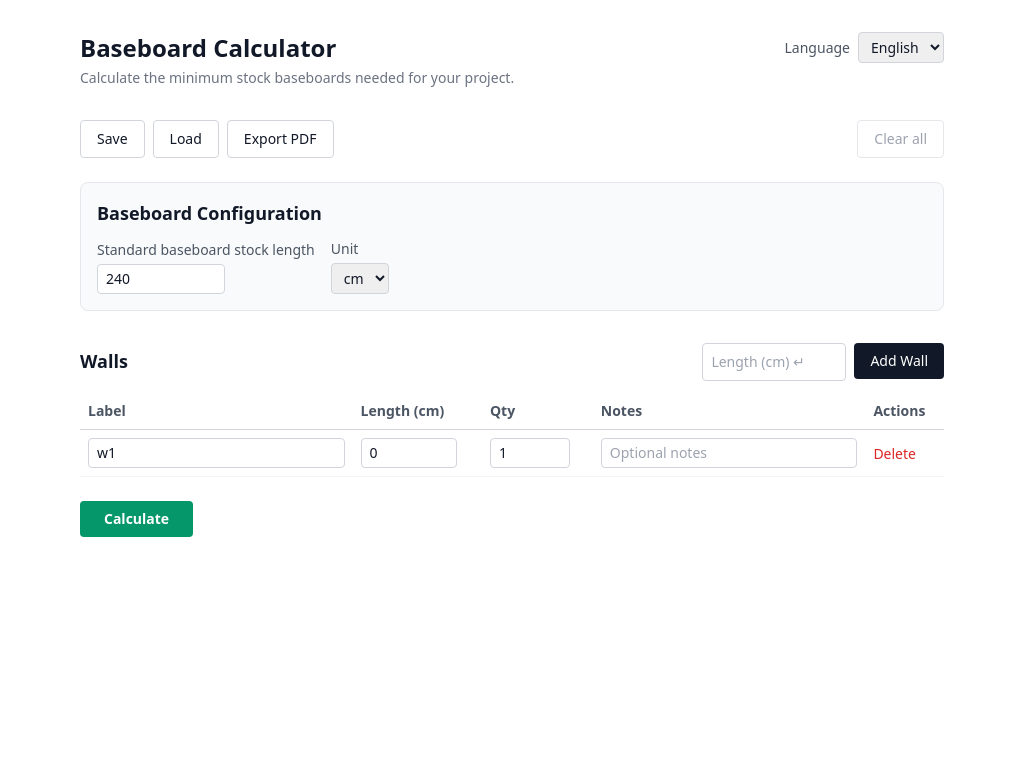
Test: App › gives the same piece count after switching units
This screenshot has width=1024, height=768.
Replace the text in the number field named "Length" with "125" at (409, 453), box [361, 438, 457, 468]
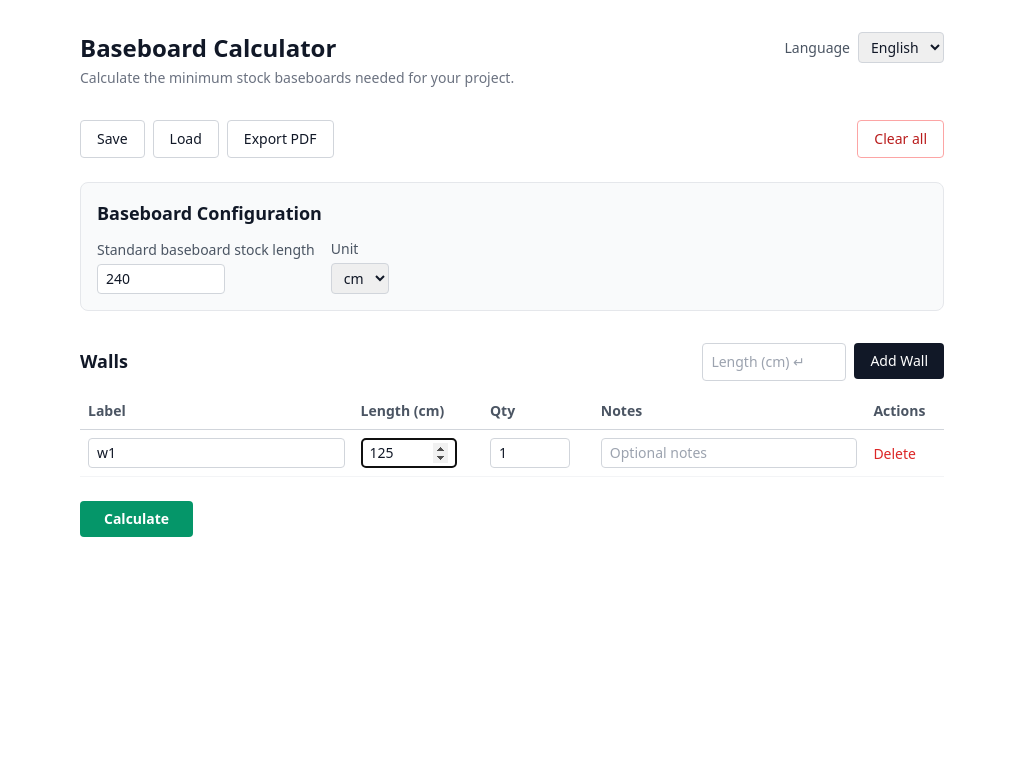
Select "m" in the dropdown labelled "Unit" at (360, 278), box [331, 263, 389, 294]
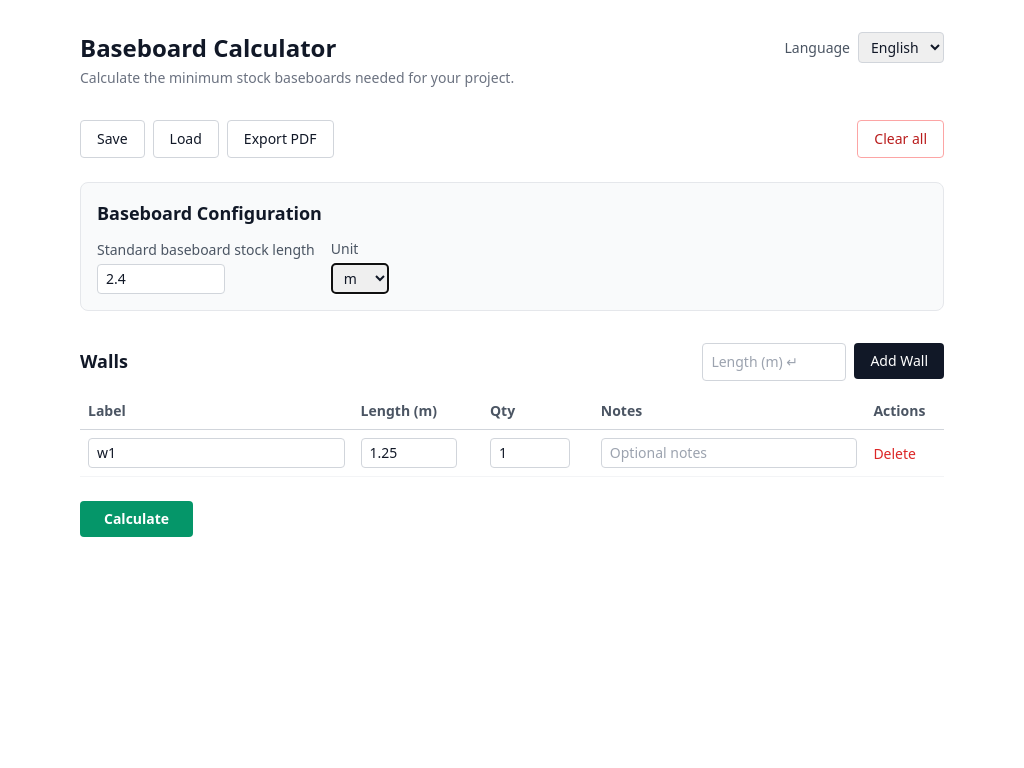
Click the button with test id "calculate-button" at (137, 519), box [80, 501, 193, 537]
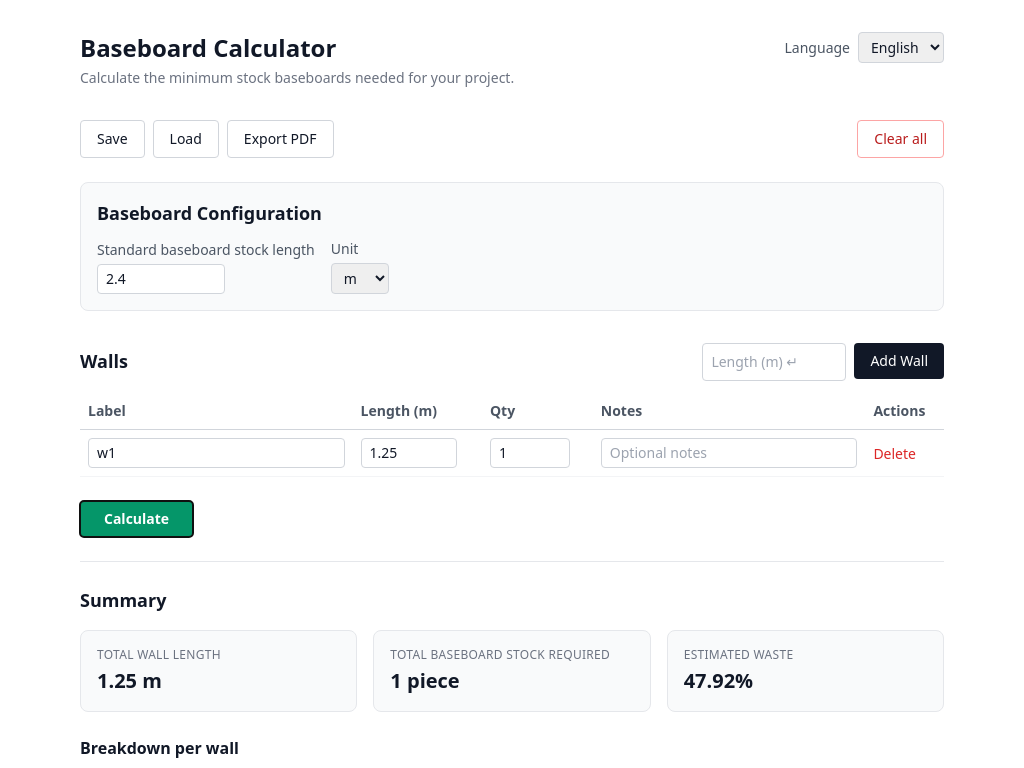
Expected: the element with test id "summary-stock-required" shows "1 piece", [390, 667, 460, 694]
Expected: the element with test id "summary-total-wall-length" shows "1.25 m", [97, 667, 162, 694]
